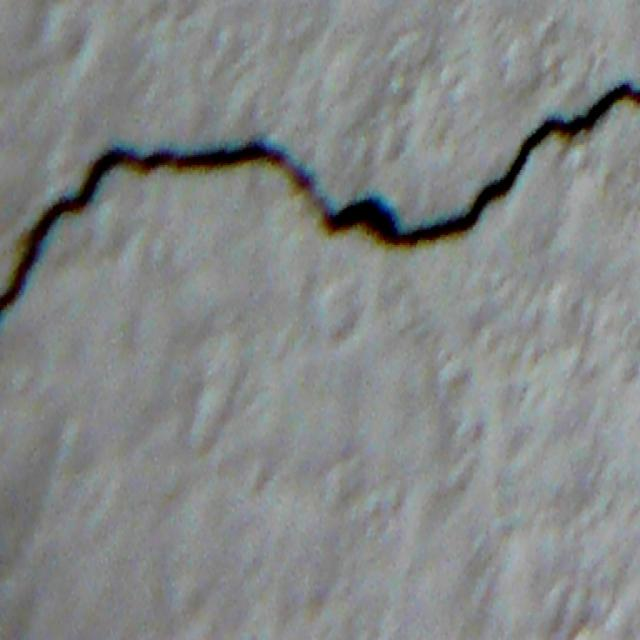crack: (1, 81, 638, 312)
